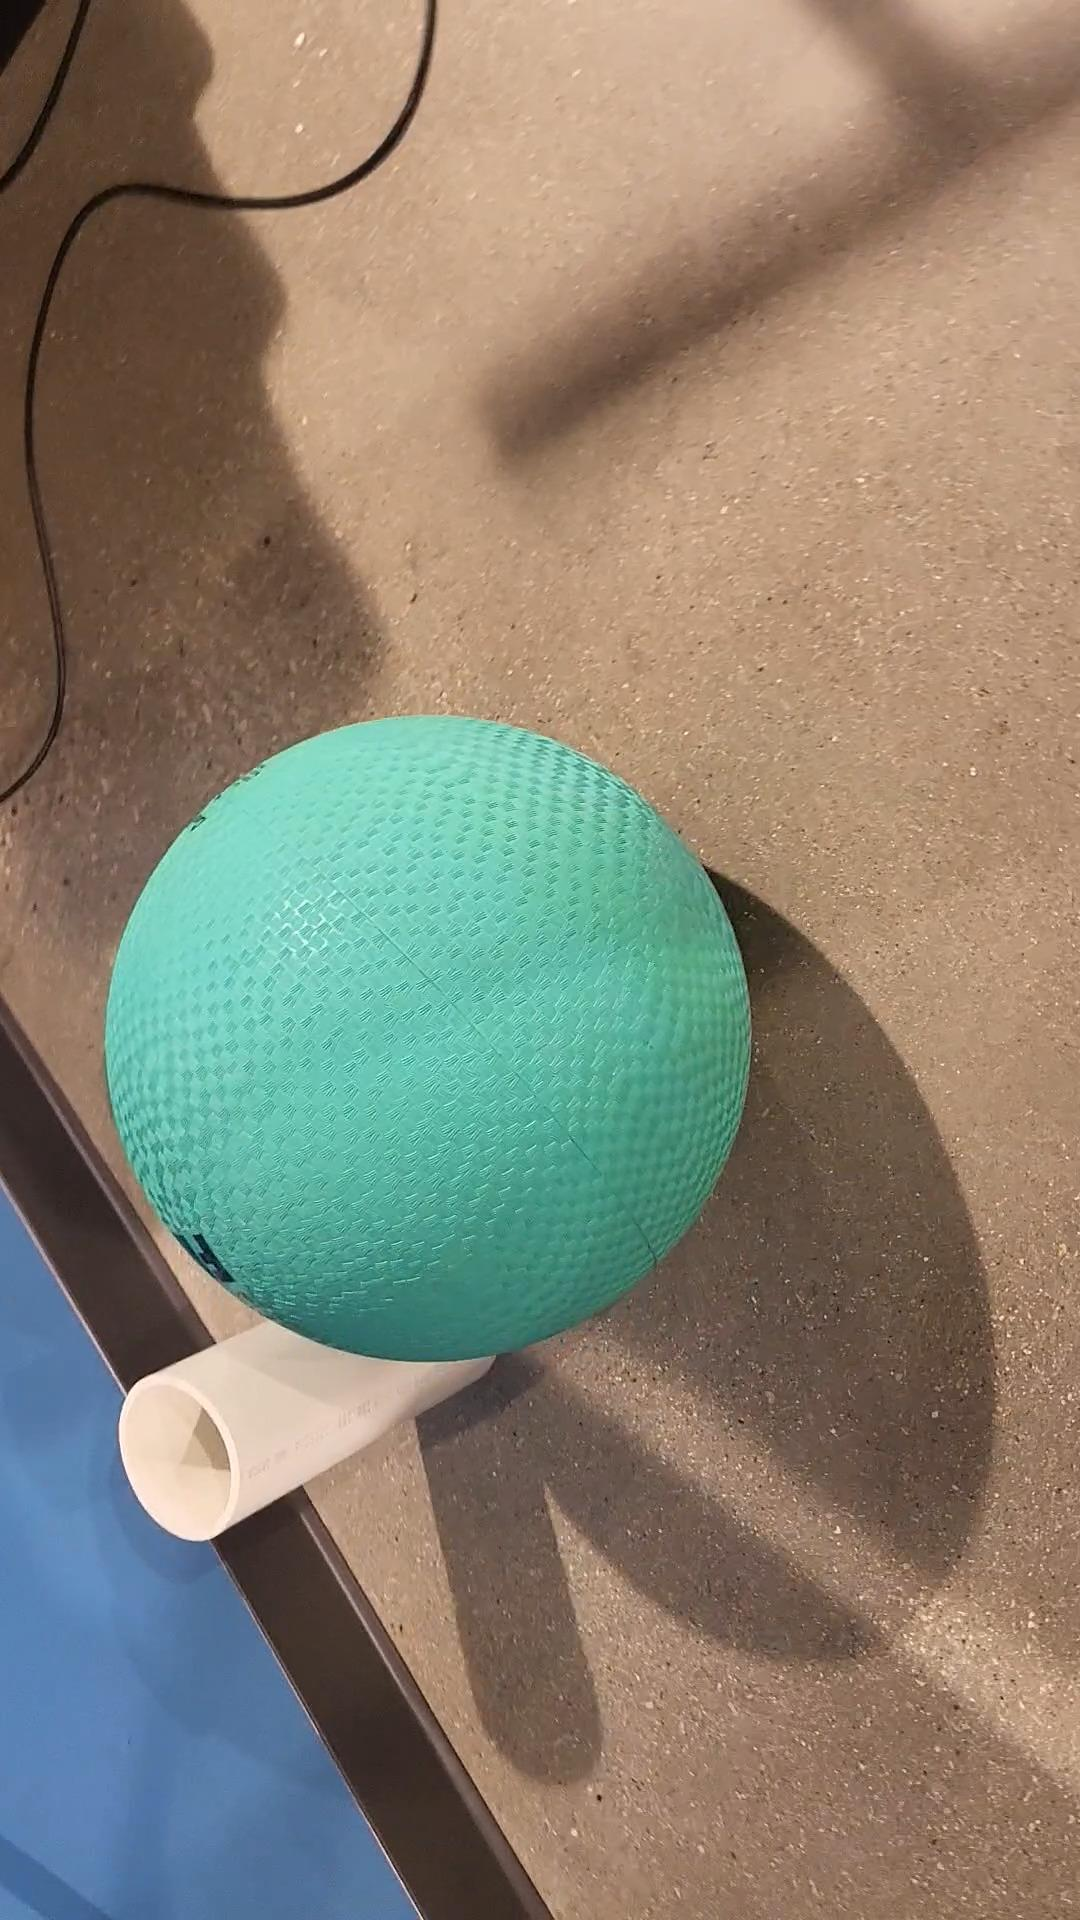algae: (94, 698, 760, 1364)
coral: (124, 1267, 493, 1536)
